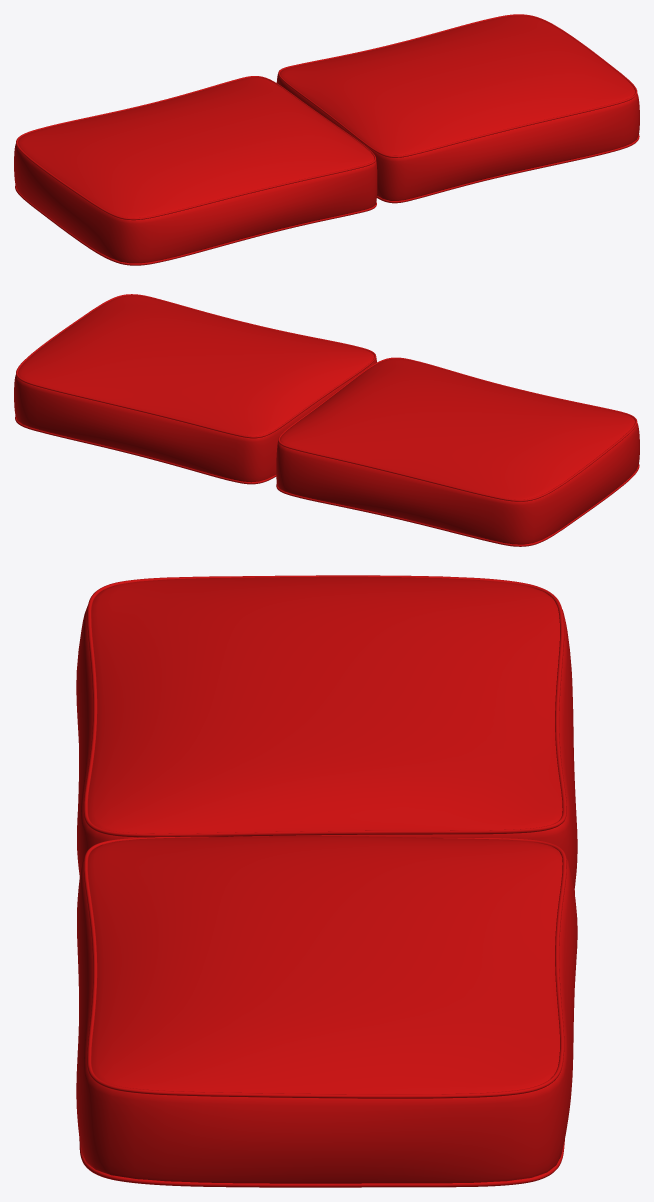
File: HP_Coussin_Assise.fbx
3 renders of one model, top to bottom at view 1: azimuth 30°, elevation 25°; view 2: azimuth 150°, elevation 25°; view 3: azimuth 270°, elevation 25°, orthographic. The views are drawn at different scales.
Parts seen in each view (by area): view 1: HP_Coussin_Assise; view 2: HP_Coussin_Assise; view 3: HP_Coussin_Assise.
Boxes of the visible parts, x1,y1,x2,y2 form: HP_Coussin_Assise: (14,14,639,265); HP_Coussin_Assise: (14,294,639,546); HP_Coussin_Assise: (76,575,577,1187).
Size of the model in its own units: 303 by 36.15 by 121.
